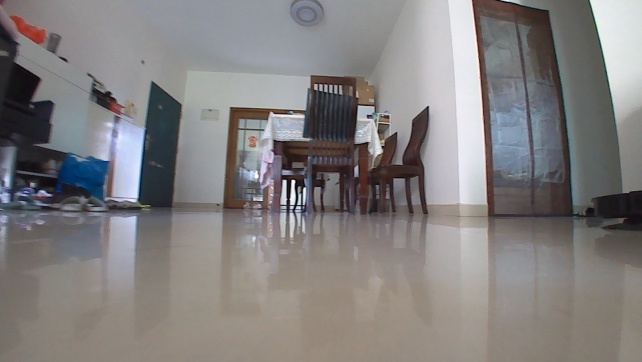dining_table: (257, 73, 433, 216)
door_anno: (137, 80, 182, 212)
slipper: (58, 192, 109, 214)
